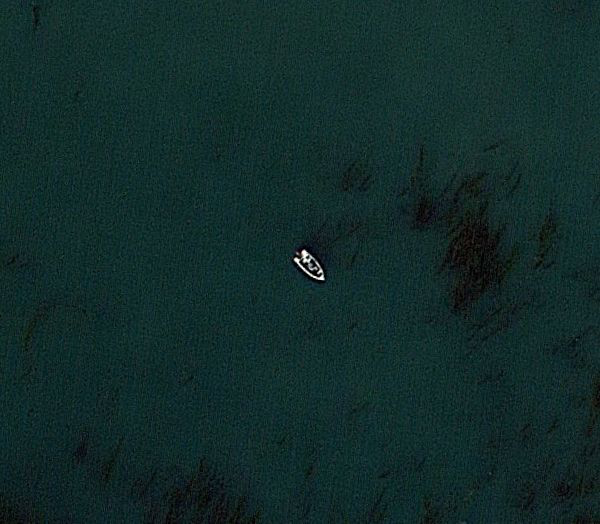boat: (293, 246, 327, 284)
